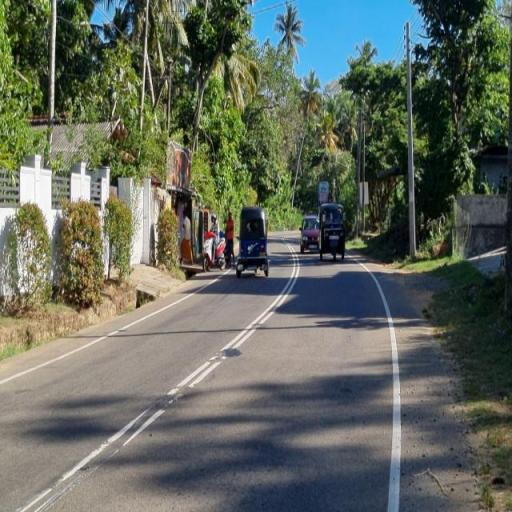double_white_line: (171, 246, 301, 402)
